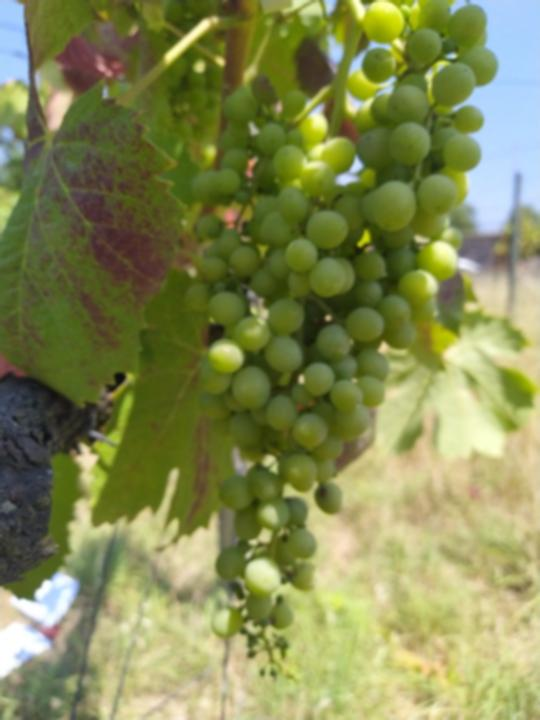grape: (176, 3, 500, 686)
